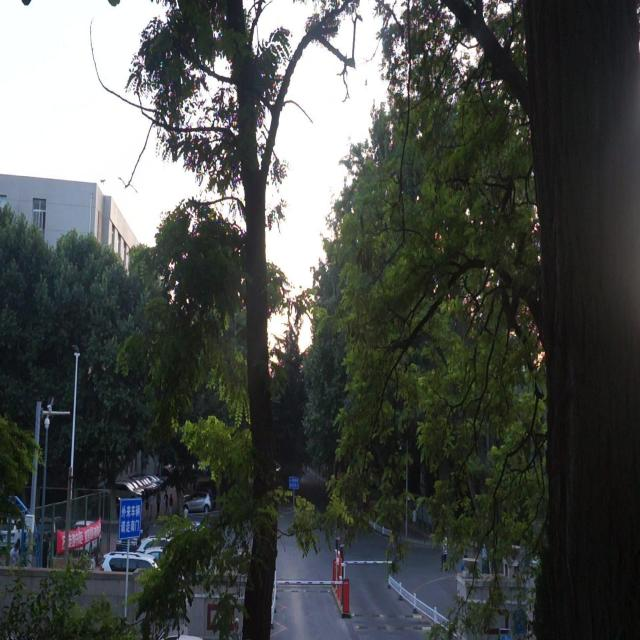UAV: (100, 179, 106, 185)
